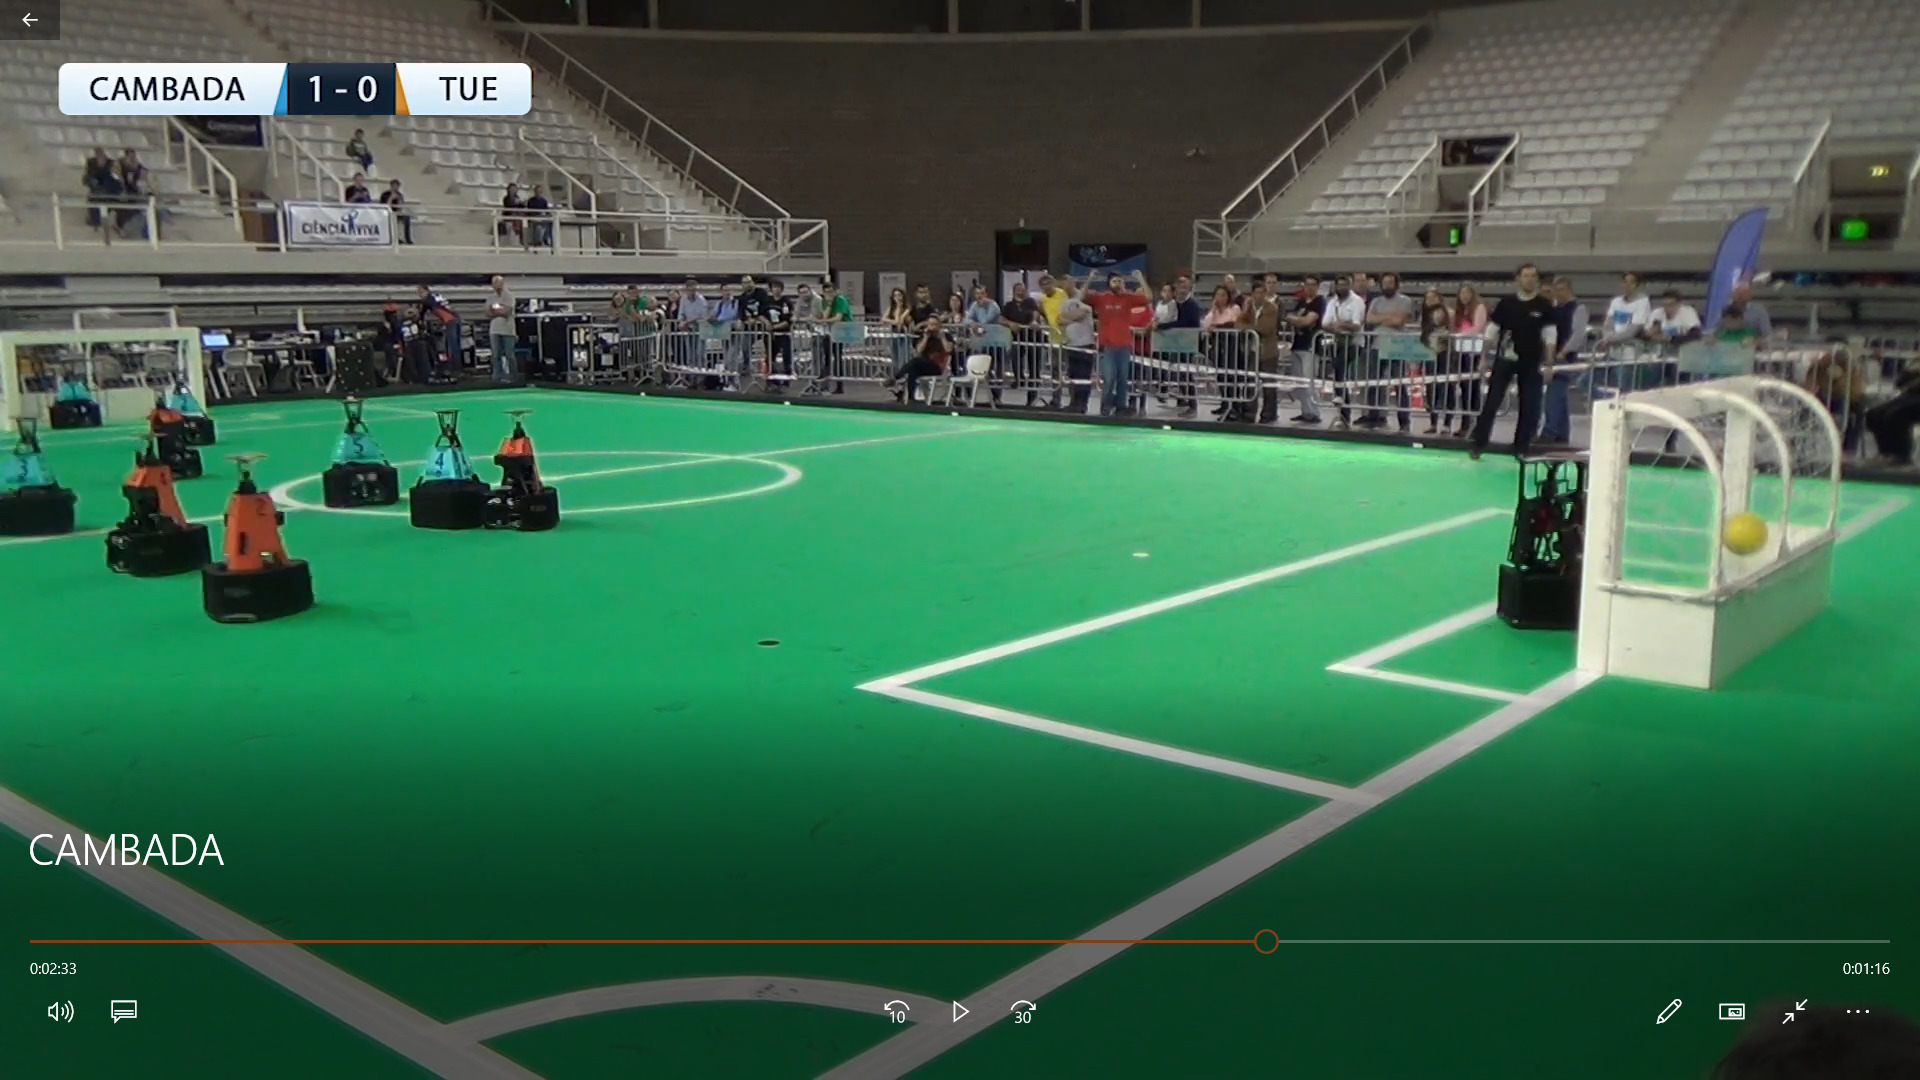BALL: (1720, 512, 1771, 556)
BLUE2: (166, 386, 204, 419)
BLUE3: (7, 450, 46, 483)
BLUE4: (426, 442, 464, 477)
BLUE5: (332, 423, 382, 467)
B_Goalie: (57, 378, 92, 401)
RED2: (220, 491, 301, 578)
RED4: (129, 469, 179, 526)
RED5: (483, 414, 560, 526)
